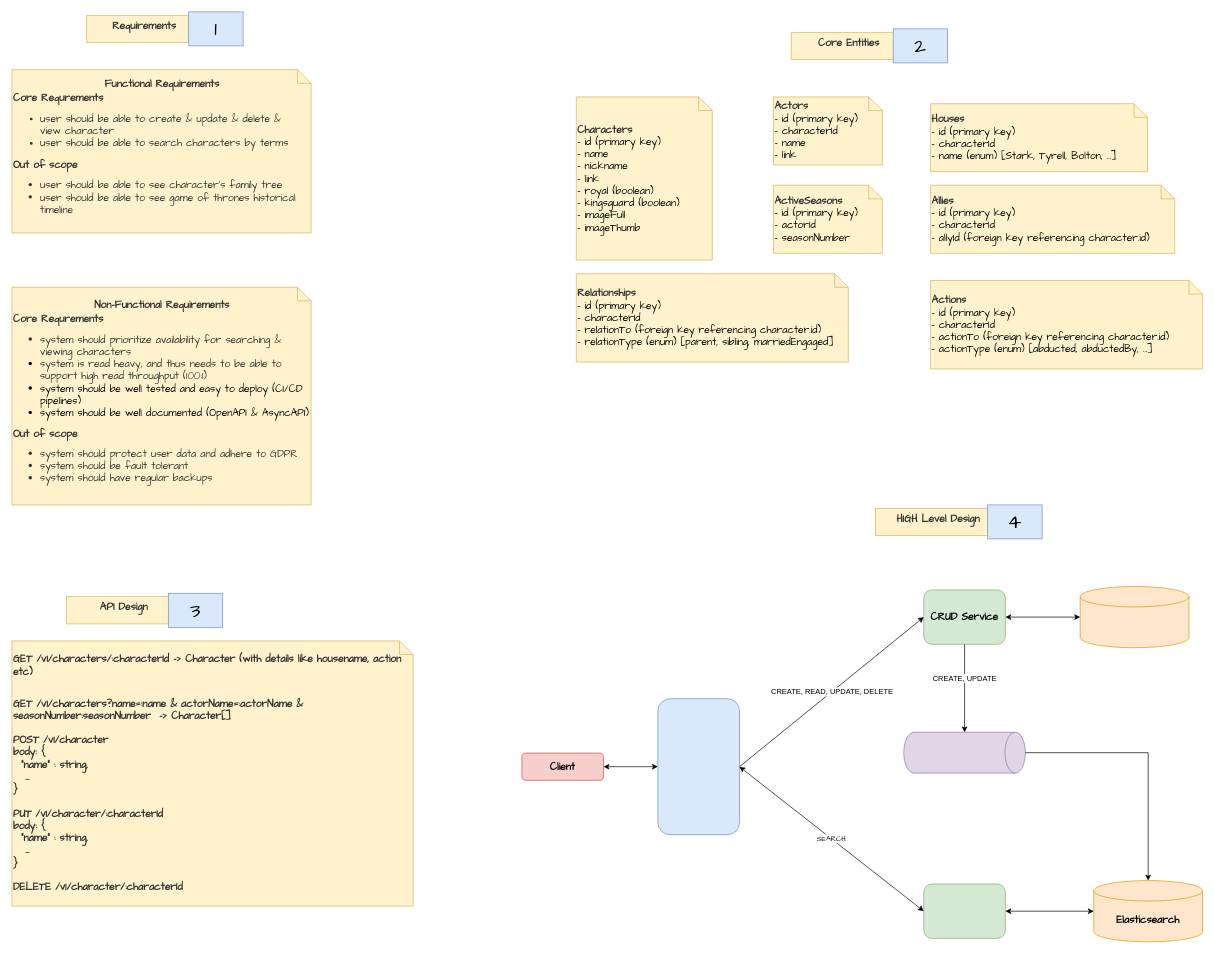
Image size: 1214x954. Some labels were removed from this diagram. The shapes that lost their labels are listed below. From the top down, each one's centre as x and y in pixels, then its label:
At point 1134,617: "Database ( POSTGRES )".
At point 698,766: "API Gateway ( NGINX ) - authentication - rate limiting - routing".
At point 964,752: "Streaming Service (RABBITMQ)".
At point 964,910: "Search Service".
